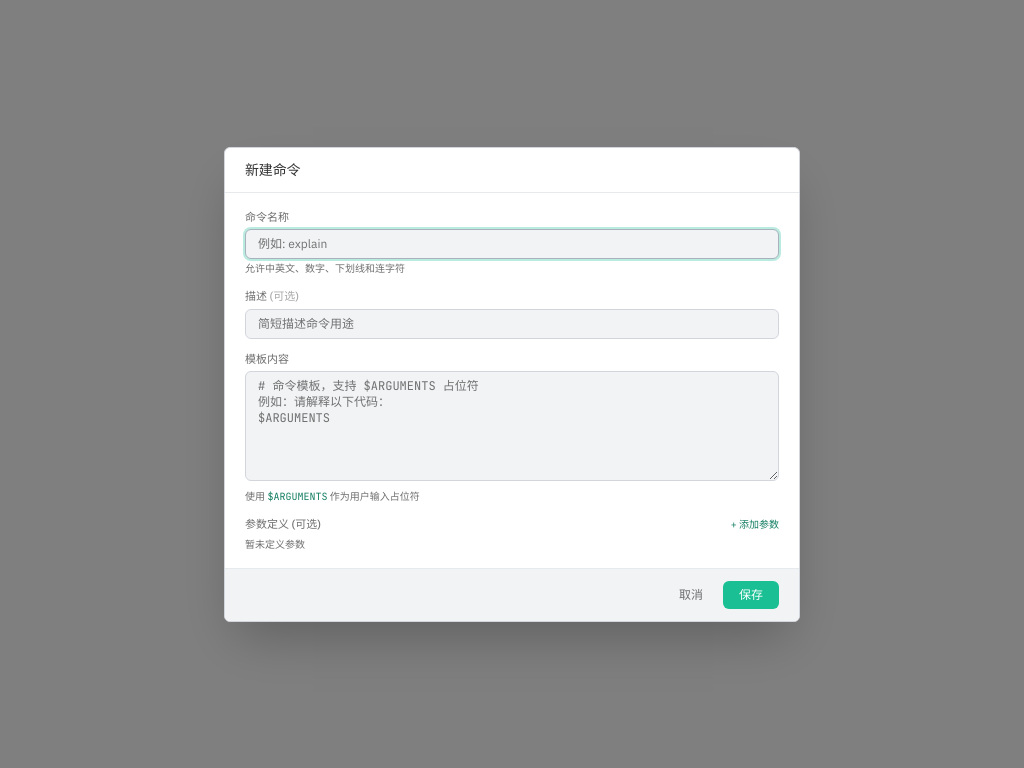
Test: CommandEditModal 名称校验 › 非法名称（含空格）报红字并高亮输入框
In the field with placeholder "例如: explain": (512,244) [245,229,779,259], type "daily report"
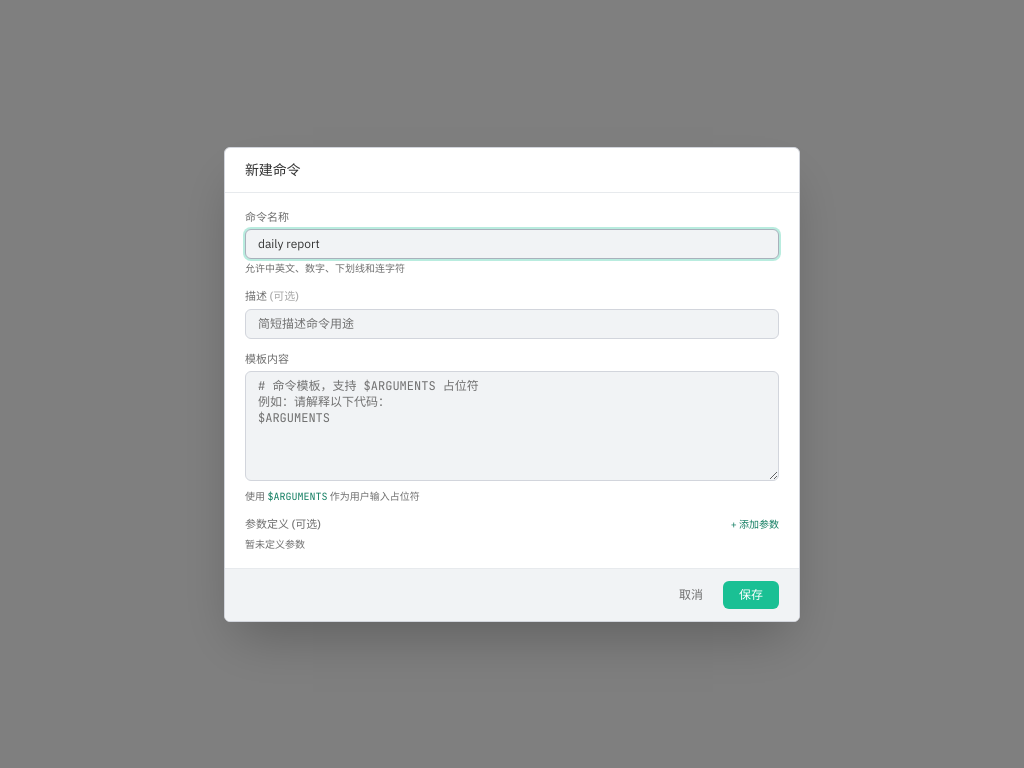
In the text box with placeholder "# 命令模板，支持 $ARGUMENTS 占位符 例如：请解释以下代码： $ARGUMENTS": (512,426) [245,371,779,481], type "内容"
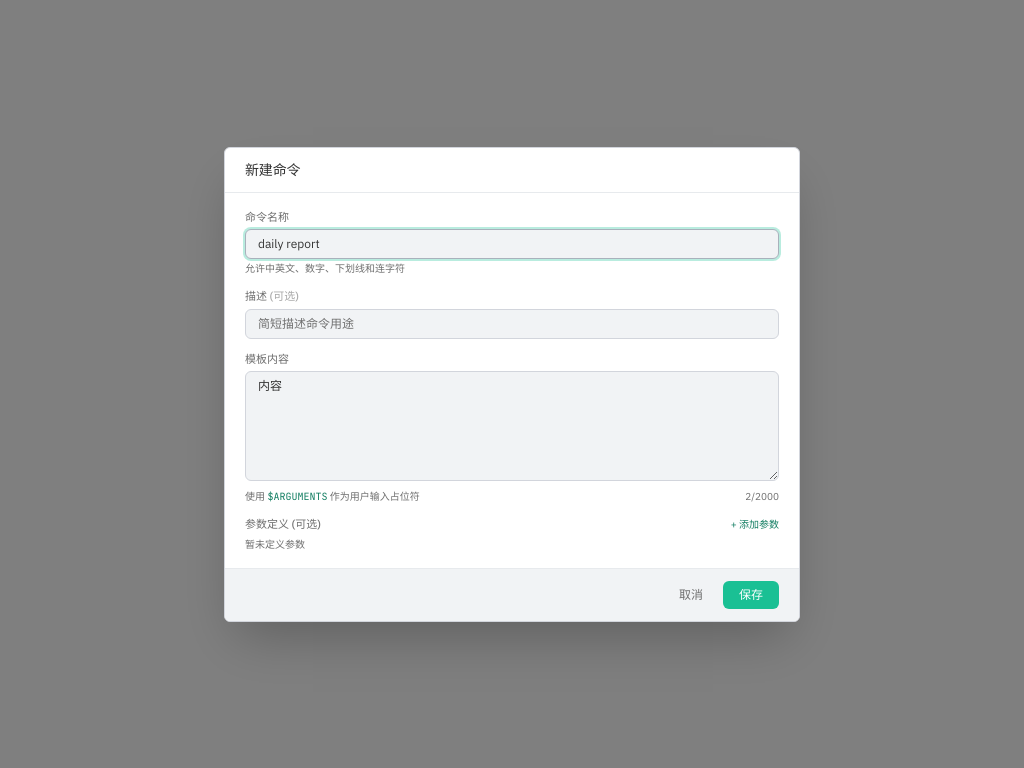
Click the button "保存": (751,594) [723,580,779,608]
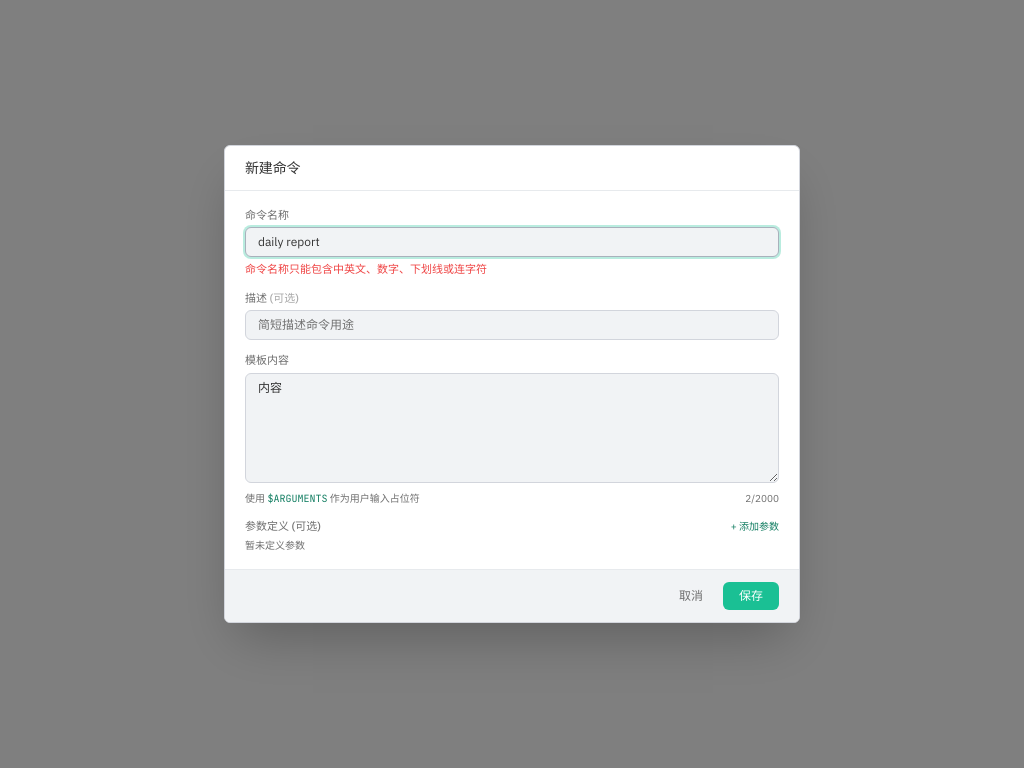
Now the message reads "命令名称只能包含中英文、数字、下划线或连字符", box [245,262,487,276]
